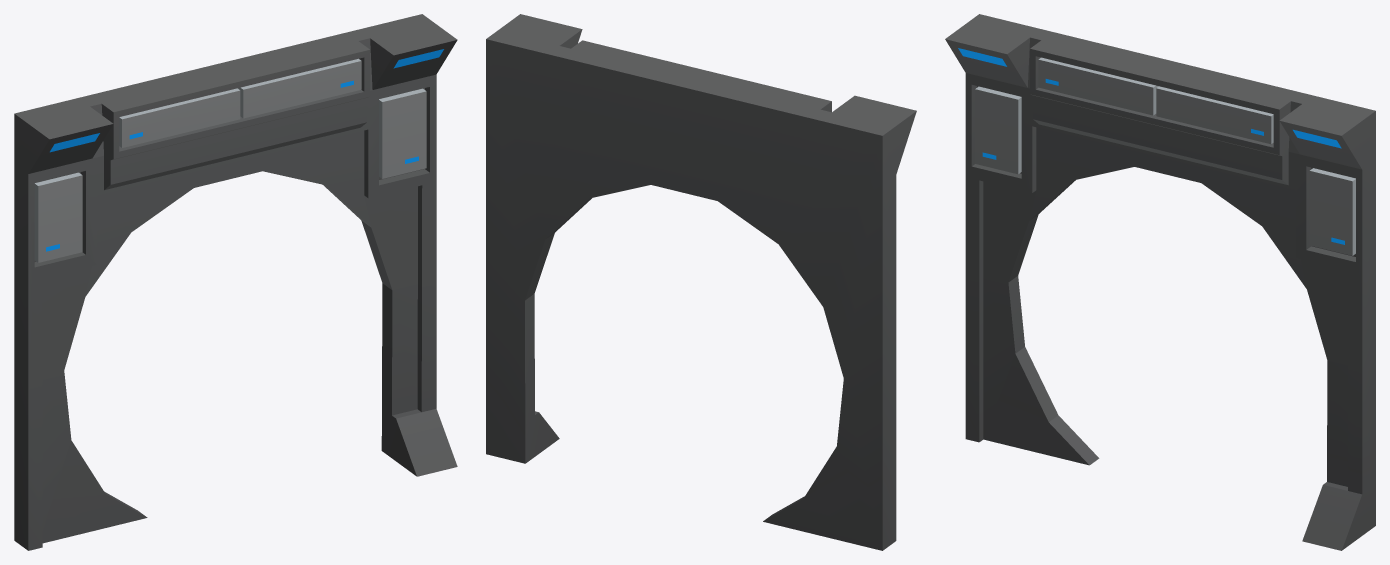
The model's file is Wall_type_B_066.glb.
3 views of the same model, side by side, from view 1: azimuth 30°, elevation 25°; view 2: azimuth 150°, elevation 25°; view 3: azimuth 330°, elevation 25° (orthographic). The views are drawn at different scales.
Parts seen in each view (by area): view 1: Wall_type_B_066; view 2: Wall_type_B_066; view 3: Wall_type_B_066.
Boxes of the visible parts, box(x1,y1,x2,y2) form: Wall_type_B_066: box(14, 14, 457, 550); Wall_type_B_066: box(486, 14, 916, 550); Wall_type_B_066: box(945, 14, 1375, 550).
Size of the model in its own units: 4 by 4 by 0.6.
2 materials, 2 textured.
